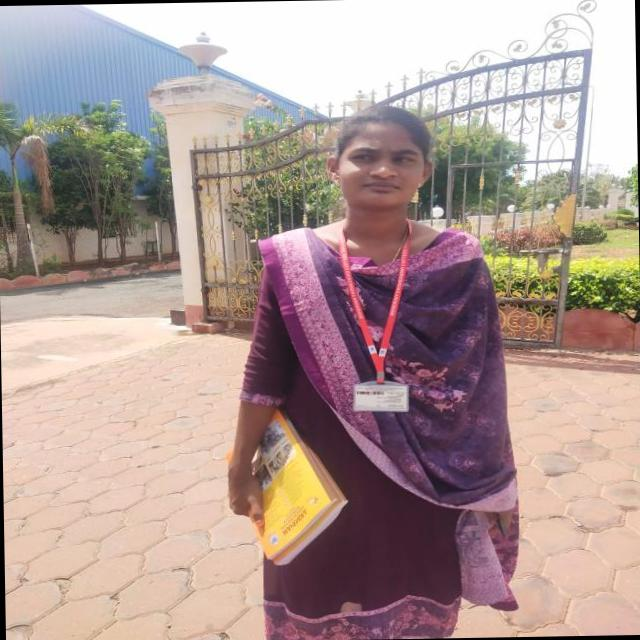id_card: (338, 217, 416, 416)
